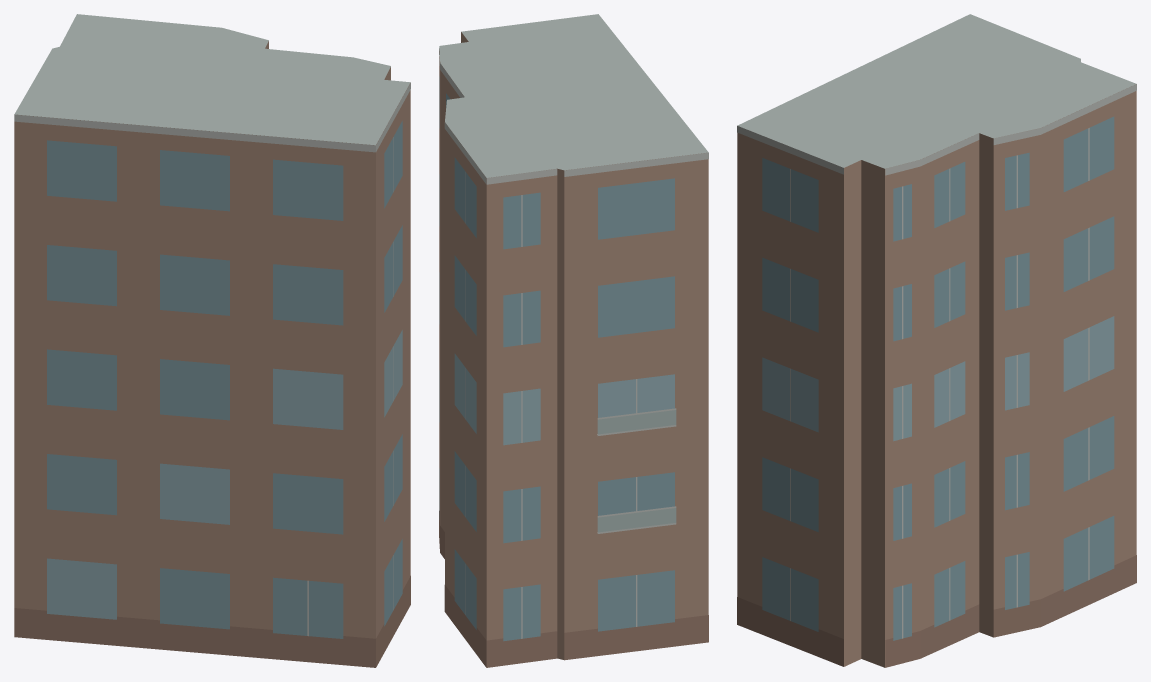
Rendered from survey-upis-32487666.glb.
3 views of the same model, side by side, from view 1: azimuth 30°, elevation 25°; view 2: azimuth 150°, elevation 25°; view 3: azimuth 270°, elevation 25° (orthographic). The views are drawn at different scales.
Visible parts, largest first — view 1: survey-upis-32487666.tmp; view 2: survey-upis-32487666.tmp; view 3: survey-upis-32487666.tmp.
Boxes of the visible parts, x1=… form: survey-upis-32487666.tmp: x1=14, y1=14, x2=410, y2=667; survey-upis-32487666.tmp: x1=439, y1=14, x2=708, y2=667; survey-upis-32487666.tmp: x1=737, y1=14, x2=1136, y2=667.
Size of the model in its own units: 11.85 by 17.8 by 12.92.
